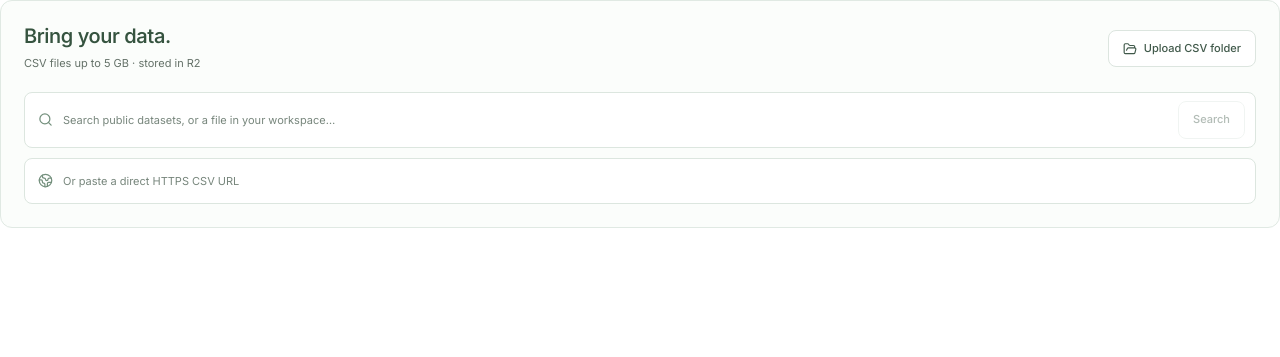
Scenario: shows the 5 GB limit, real catalog results, and imports the chosen dataset
Check: the text "CSV files up to 5 GB · stored in R2" is shown, box [24,54,200,73]
Type "Air quality" into the field labelled "Search public datasets" at (616, 120), box [63,106,1168,134]
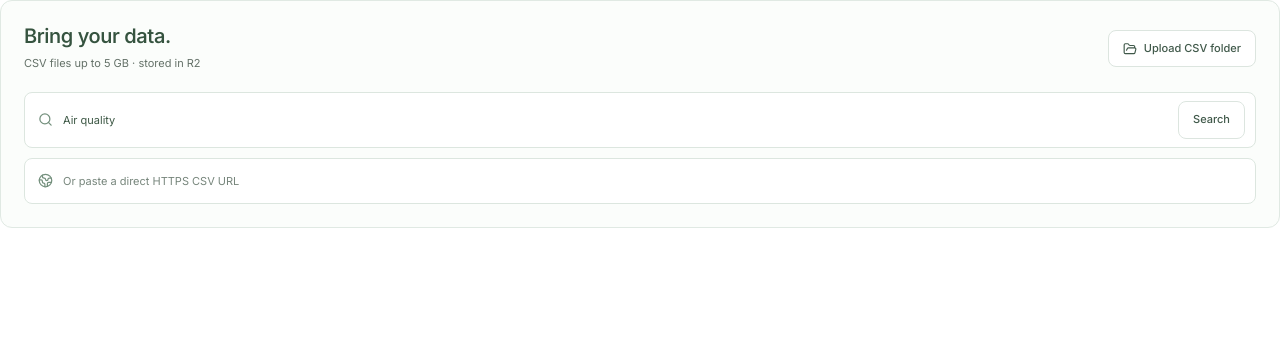
Click the button "Search" at (1212, 120), box [1178,101,1245,139]
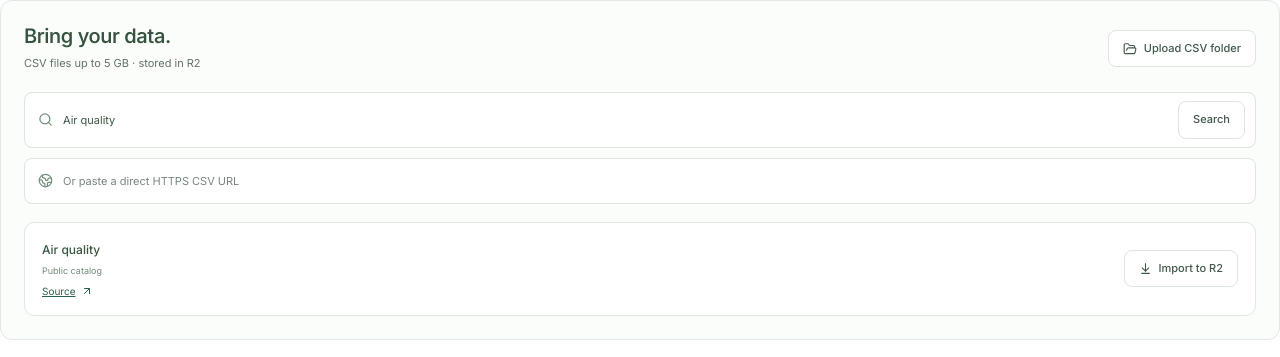
Click the button "Import to R2" at (1181, 269), box [1124,250,1238,287]
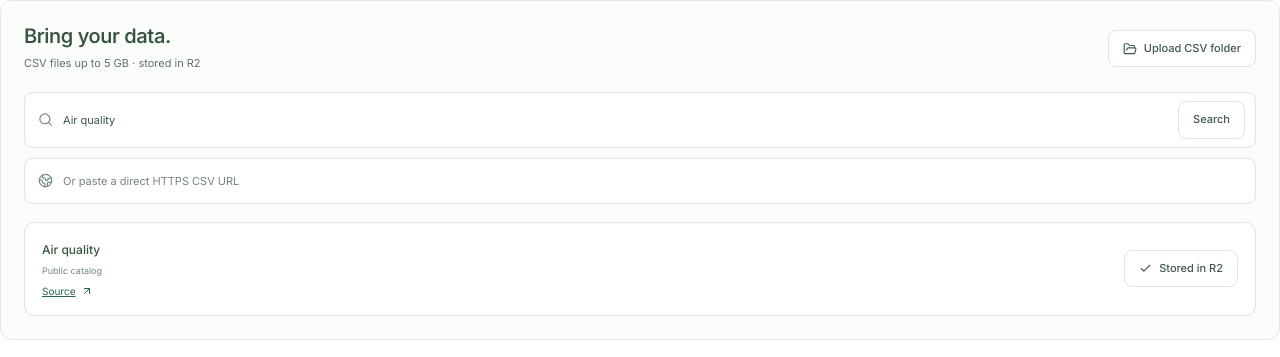
Check: the button "Stored in R2" is shown, box [1124,250,1238,287]
